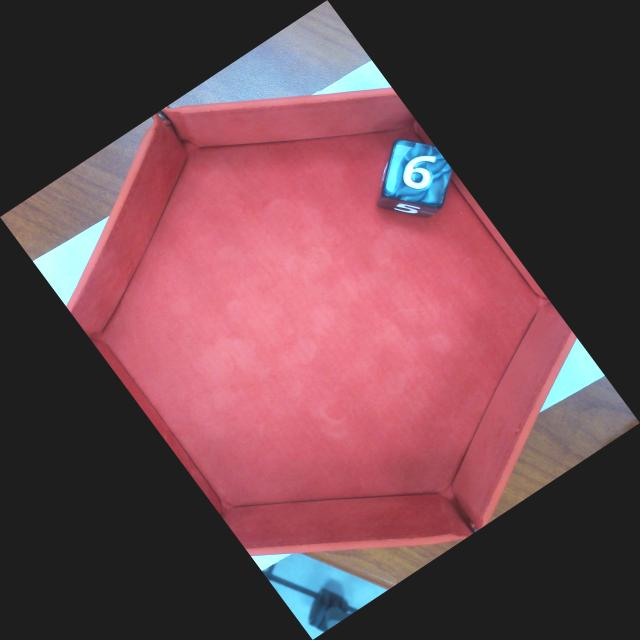dice: (380, 137, 460, 211)
